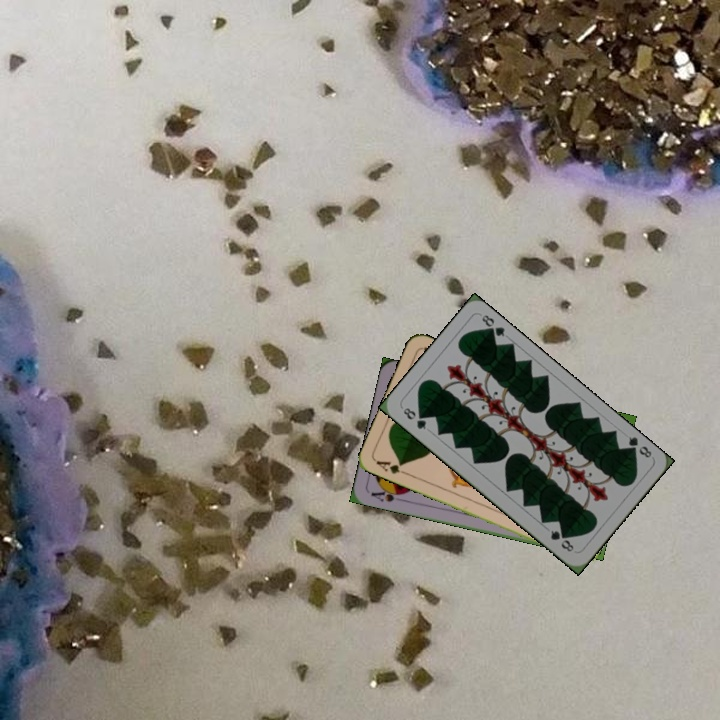G8: (622, 432, 654, 461), (399, 403, 429, 432)
GA: (372, 457, 411, 478)
SA: (367, 484, 408, 505)
